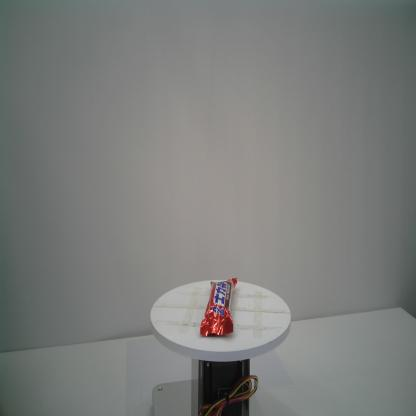Chocolate: (200, 276, 238, 336)
